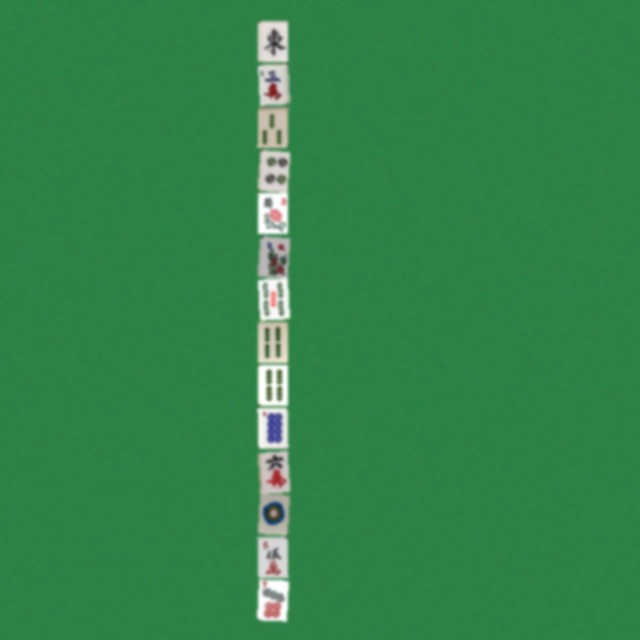tile: (257, 20, 287, 61), (257, 63, 287, 104), (257, 106, 287, 147), (257, 149, 287, 190), (257, 192, 287, 233), (257, 235, 287, 276), (257, 278, 287, 319), (257, 321, 287, 362), (257, 364, 287, 405), (257, 407, 287, 448), (257, 450, 287, 491), (257, 493, 287, 534), (257, 536, 287, 577), (257, 579, 287, 620)
